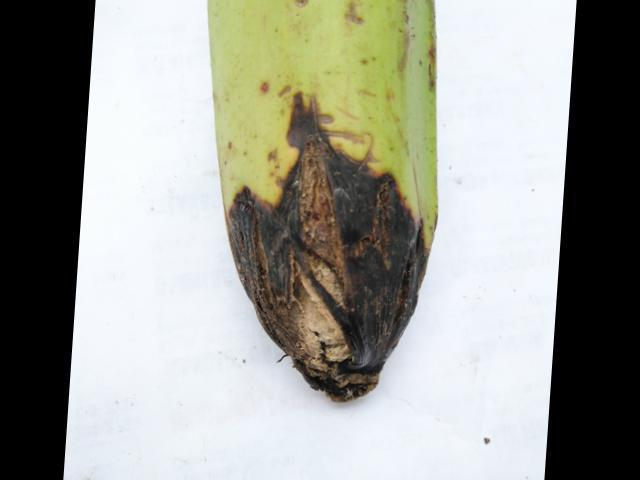rotten: (199, 109, 453, 423)
unripe: (190, 0, 467, 193)
